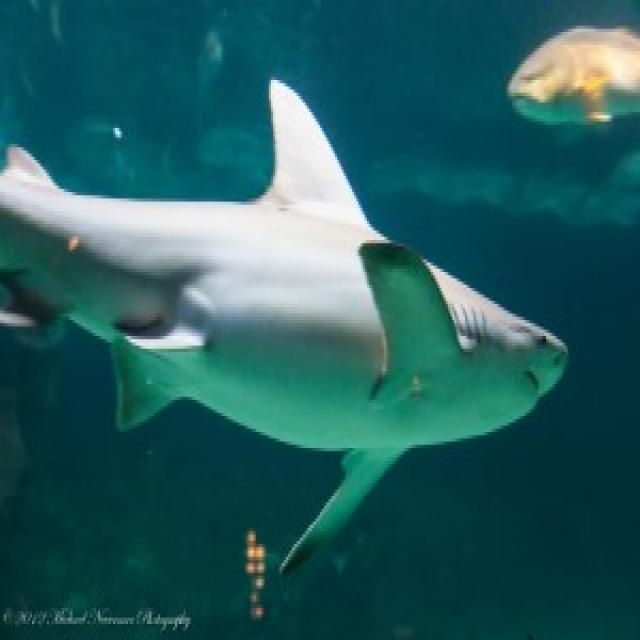Shark: (0, 132, 562, 583)
